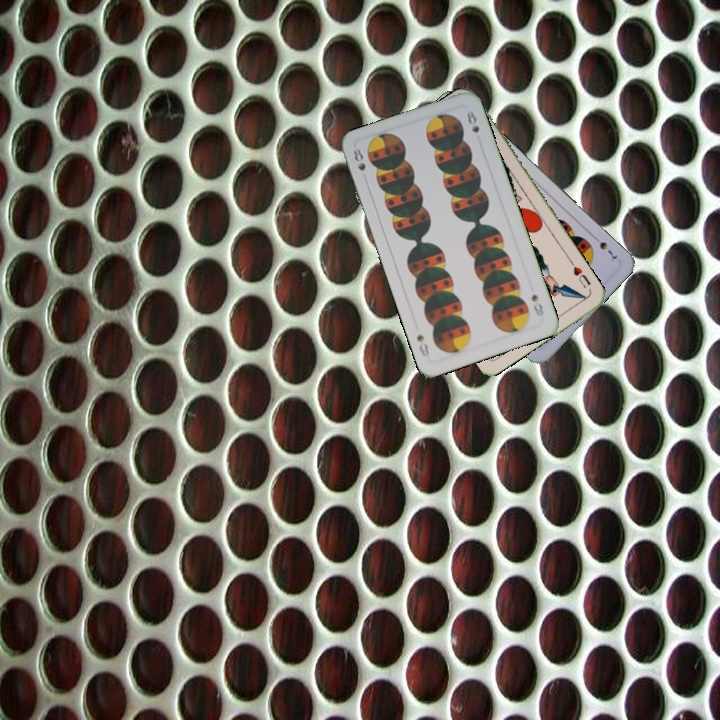HU: (566, 257, 593, 291)
S7: (588, 231, 619, 262)
S8: (527, 290, 546, 319), (349, 144, 368, 173)
